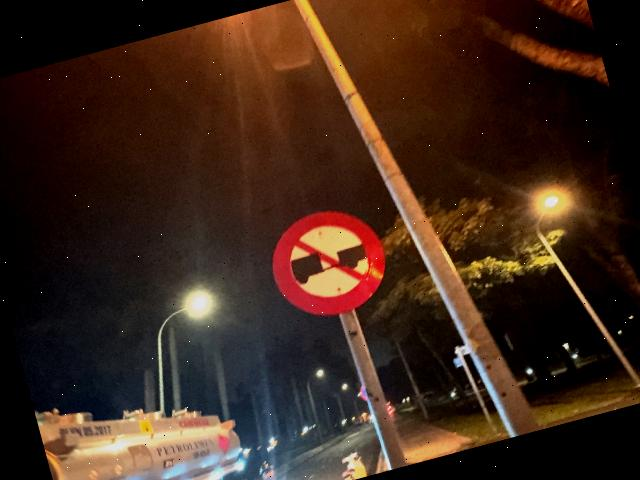cam-xe-somi-romooc: (260, 197, 398, 326)
